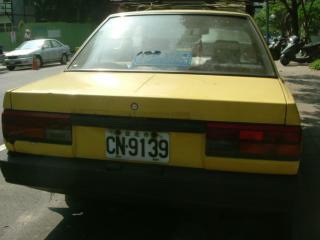plate: (103, 125, 171, 166)
